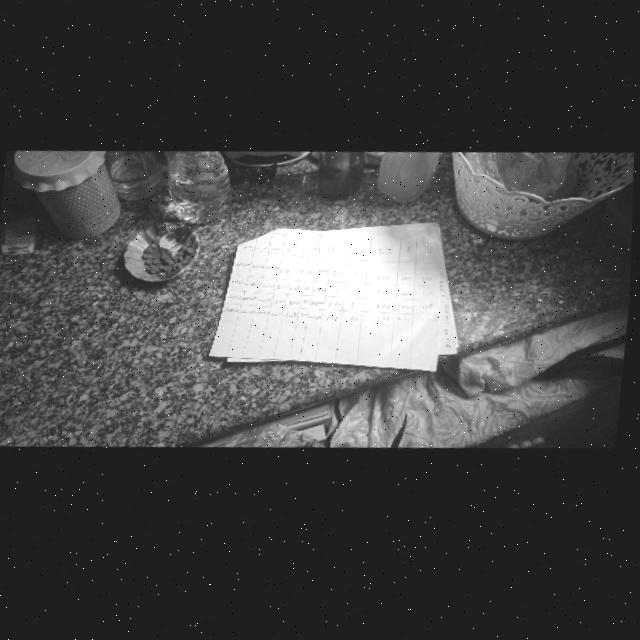document: (210, 222, 457, 369)
